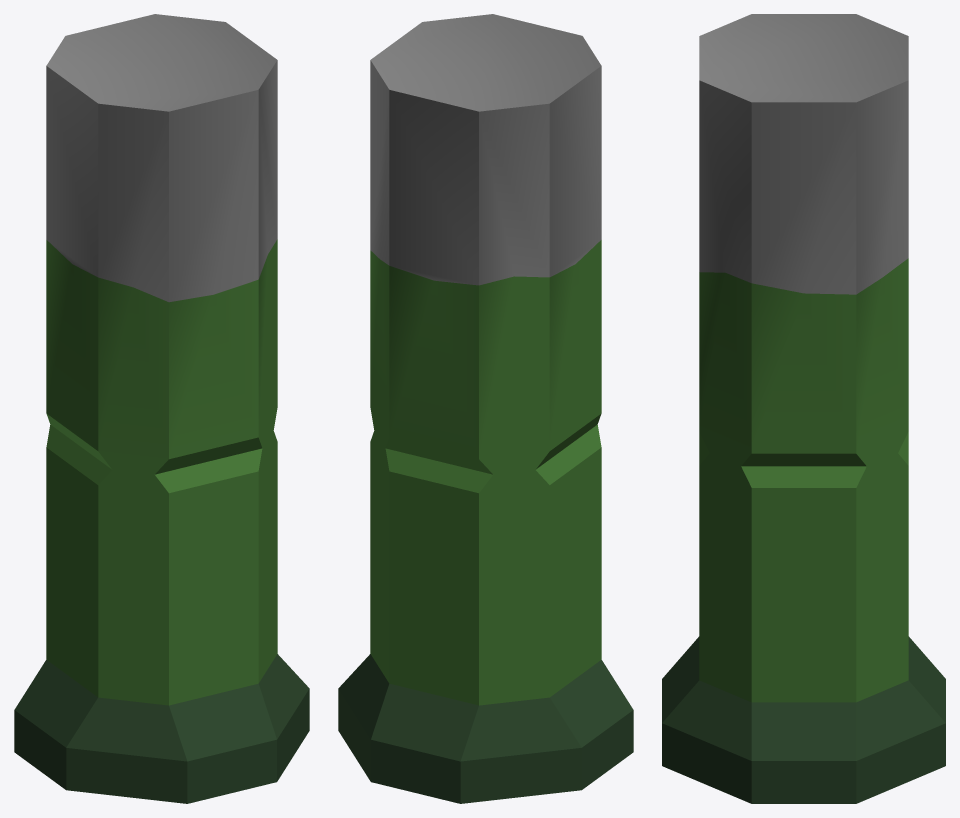
The model's file is pillar_mossy_bottom.fbx.
3 views of the same model, side by side, from view 1: azimuth 30°, elevation 25°; view 2: azimuth 150°, elevation 25°; view 3: azimuth 270°, elevation 25° (orthographic).
Parts seen in each view (by area): view 1: pillar_mossy.bottom; view 2: pillar_mossy.bottom; view 3: pillar_mossy.bottom.
Boxes of the visible parts, <box> form: pillar_mossy.bottom: <box>14,14,309,803</box>; pillar_mossy.bottom: <box>338,14,633,803</box>; pillar_mossy.bottom: <box>662,14,945,803</box>.
Bounding box in the file's own units: 150 × 400 × 150.
